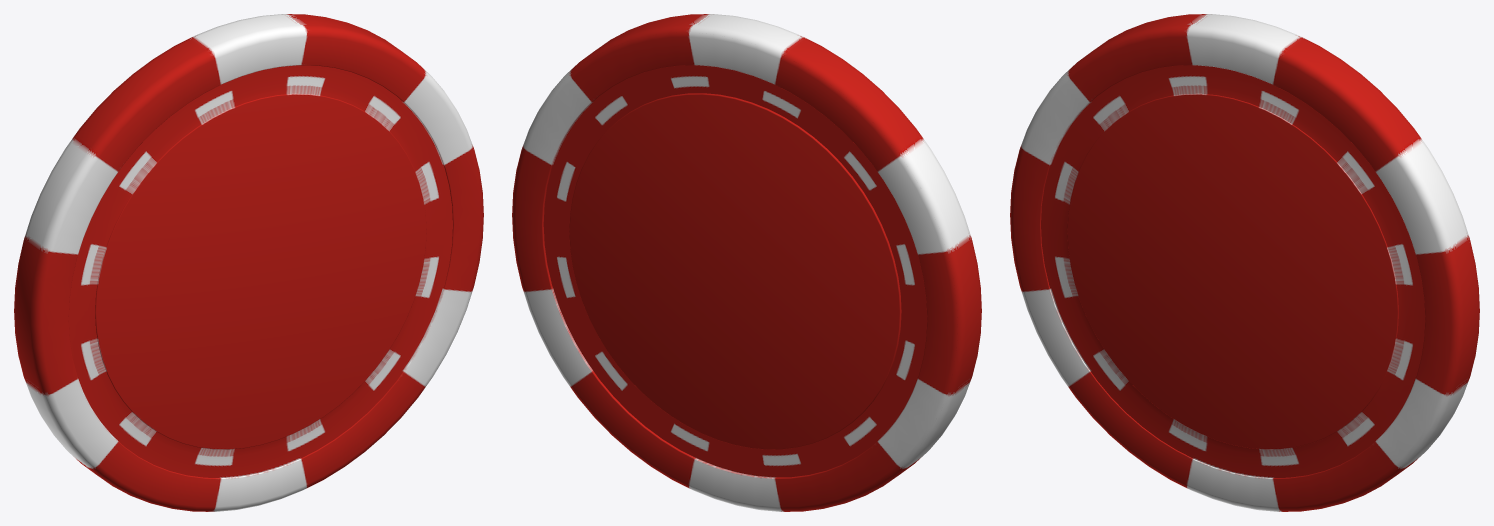
The model's file is red_white.glb.
The picture shows the model from 3 angles, left to right: view 1: azimuth 30°, elevation 25°; view 2: azimuth 150°, elevation 25°; view 3: azimuth 330°, elevation 25°; orthographic projection.
Visible parts, largest first — view 1: chips.457_chips_red_bake_0; view 2: chips.457_chips_red_bake_0; view 3: chips.457_chips_red_bake_0.
Part boxes in pixels (x1,y1,x2,y2): chips.457_chips_red_bake_0: [14, 14, 483, 511]; chips.457_chips_red_bake_0: [512, 14, 981, 511]; chips.457_chips_red_bake_0: [1010, 14, 1479, 511].
Size of the model in its own units: 2 by 2 by 0.1882.
Materials: 1 (1 with a texture image).
